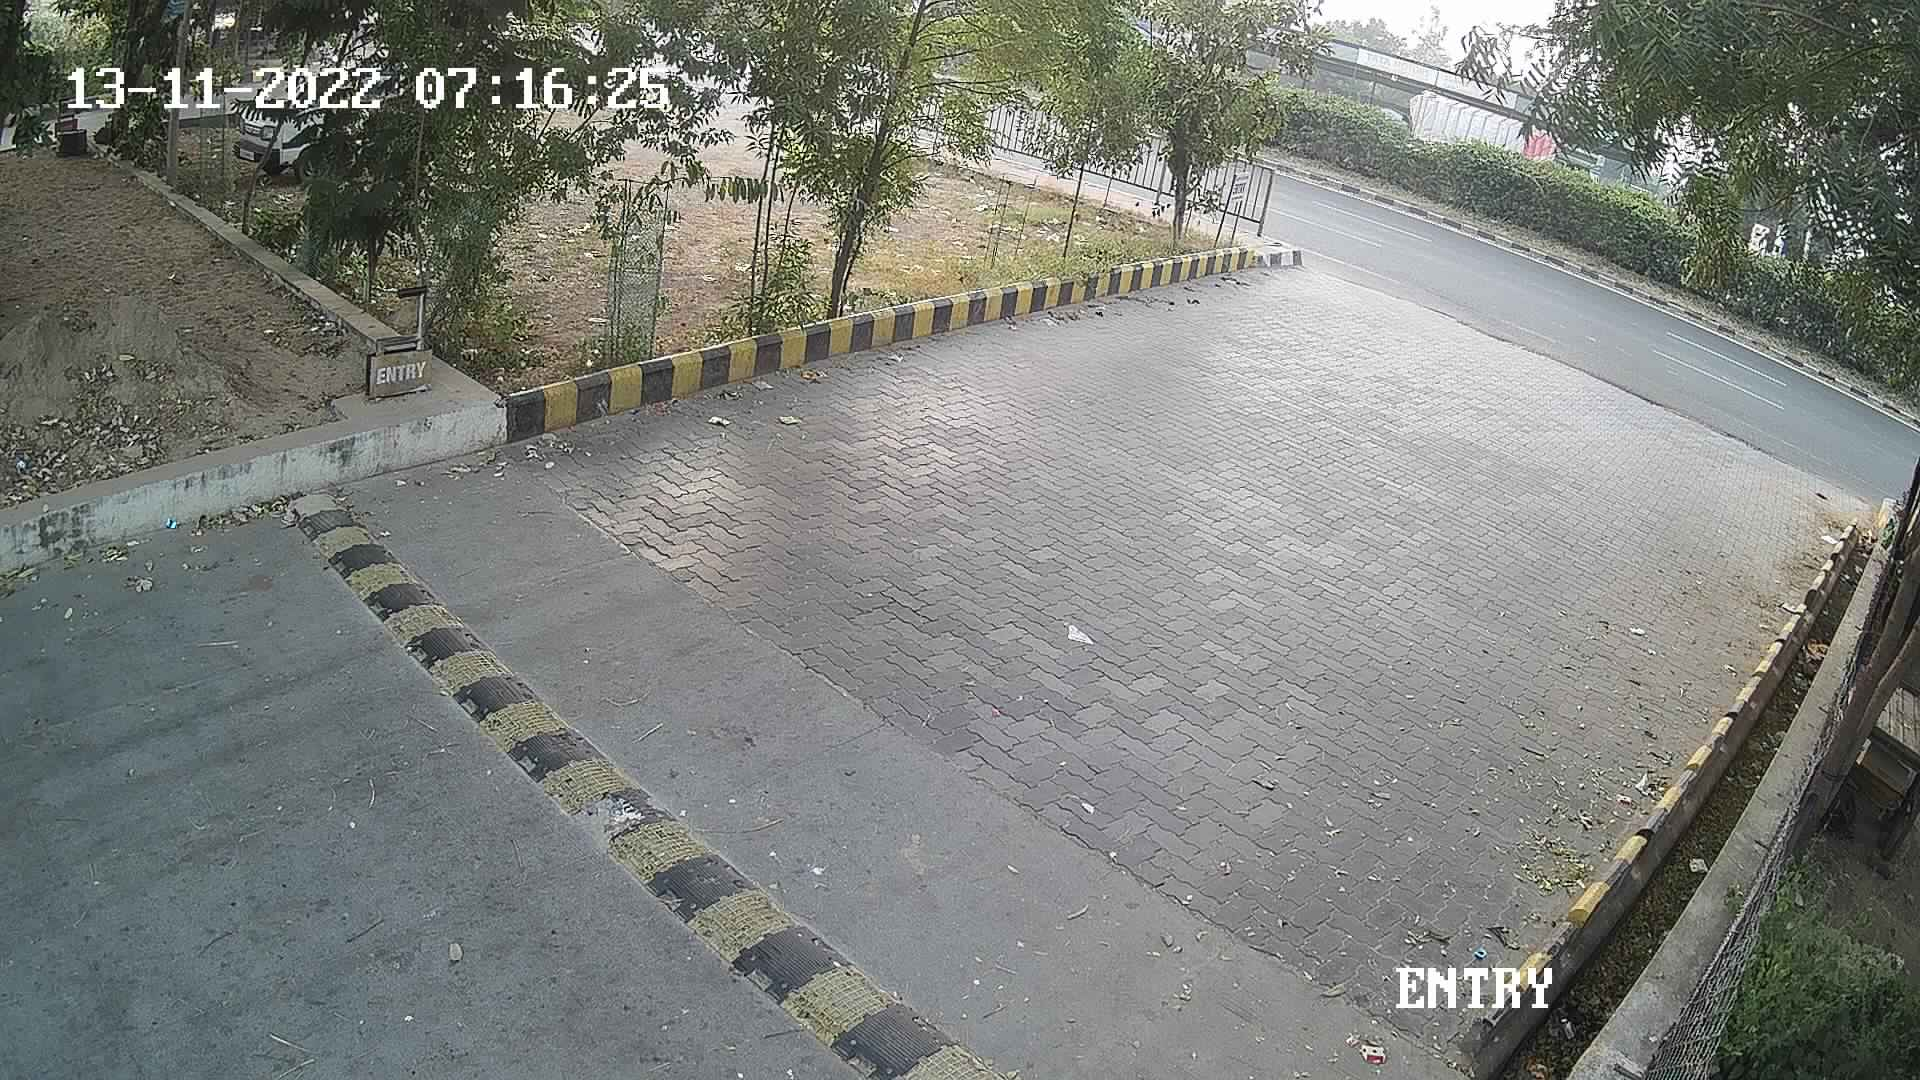Car: (229, 40, 343, 187)
